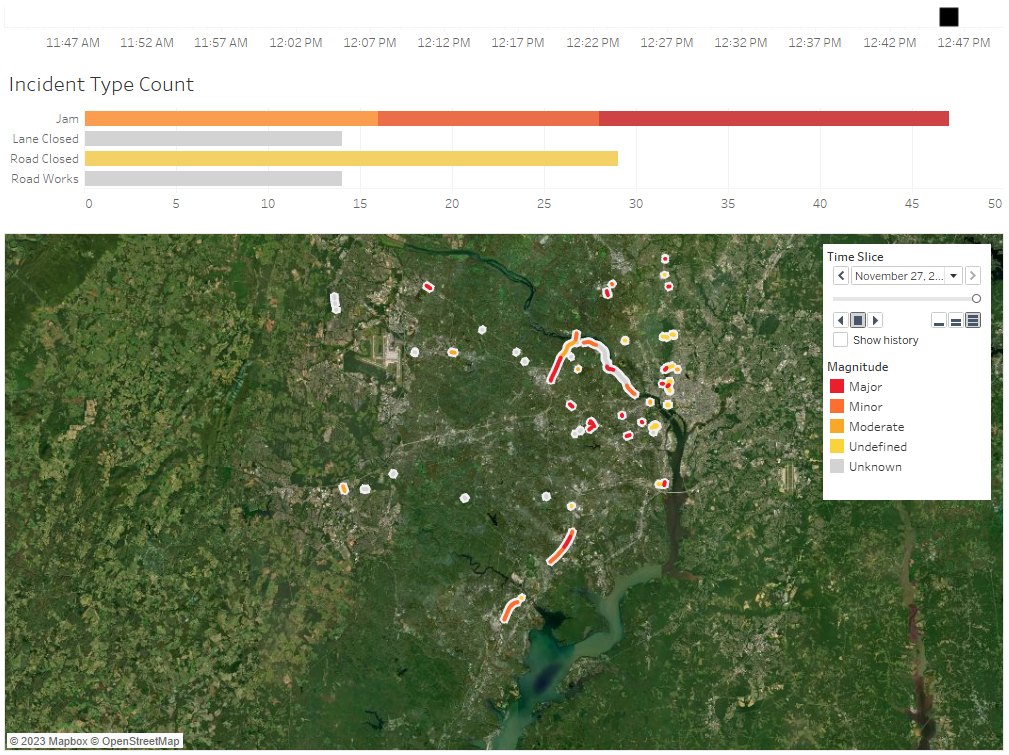

This screenshot's page, from the dashboard's own definition file:
{"tool":"tableau","page":{"name":"Dashboard","canvas":[1024,768],"ordinal":0},"visuals":[{"type":"worksheet","title":"Time","mark":"Shape","cols":["Retrieve Time"],"box":[8,8,1008,57.5]},{"type":"worksheet","title":"Incident Type Count","mark":"Bar","rows":["Category_Name"],"cols":["ID"],"box":[8,65.5,1008,168.8]},{"type":"worksheet","title":"Incident Map","mark":"Line","rows":["Latitude"],"cols":["Longitude"],"box":[8,234.3,1008,525.6]},{"type":"currpage","title":"Incident Map","box":[831,249,168,110]},{"type":"legend","title":"Incident Map","param":"[federated.1hlivgf15q9bpa15td7us1j9m3rd].[none:Magnitude_Name:nk]","box":[831,359,168,126]}]}

Visuals, with their boxes in screenshot pixels (x1, y1, x2, y2), scaled from the page's 1024x768 canvas onto the 1009x755 screenshot:
"Time" worksheet (Shape marks): <region>8, 8, 1001, 64</region>
"Incident Type Count" worksheet (Bar marks): <region>8, 64, 1001, 230</region>
"Incident Map" worksheet (Line marks): <region>8, 230, 1001, 747</region>
"Incident Map" currpage: <region>819, 245, 984, 353</region>
"Incident Map" legend: <region>819, 353, 984, 477</region>
